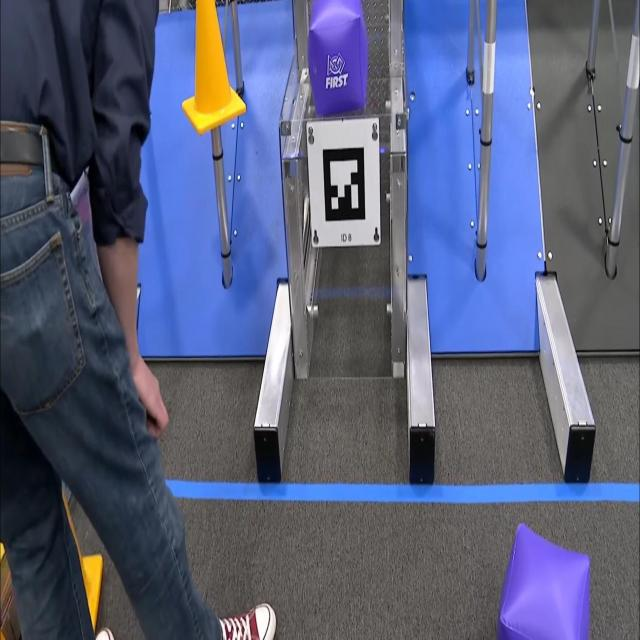frc_cone: (180, 7, 248, 136), (47, 494, 104, 632), (0, 572, 31, 640)
frc_cube: (500, 521, 598, 640), (307, 4, 368, 117)
